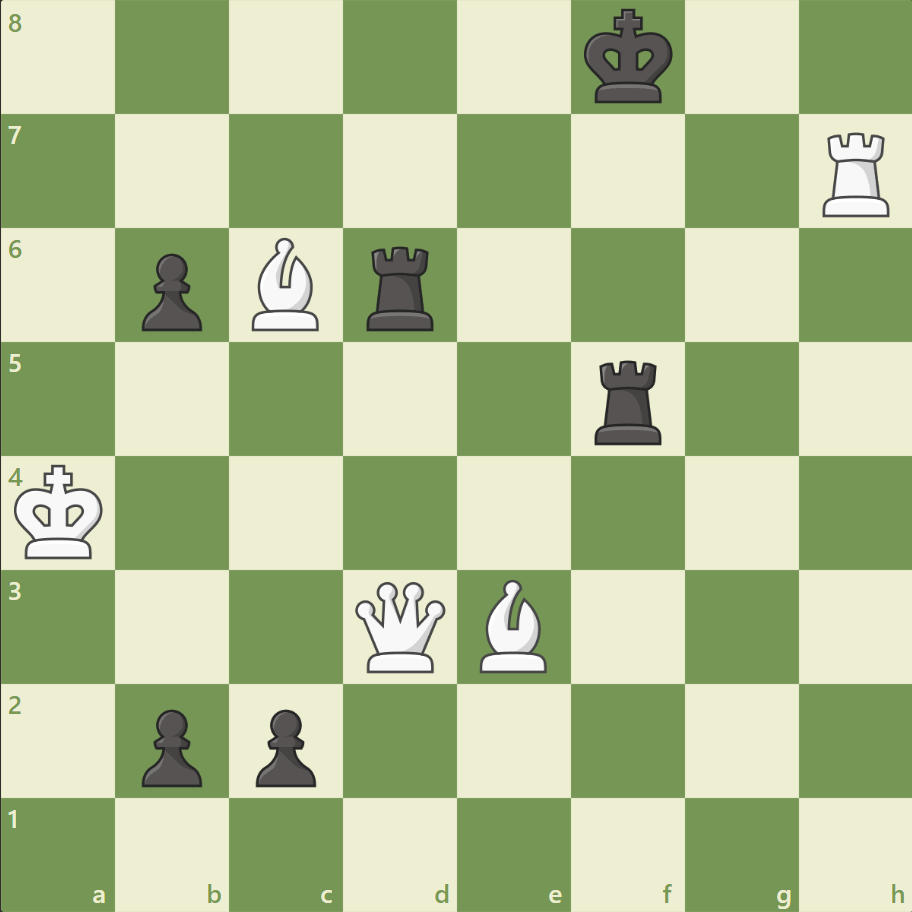B: (244, 233, 328, 336), (471, 574, 555, 676)
K: (11, 458, 111, 566)
Q: (351, 576, 450, 676)
R: (814, 125, 897, 222)
k: (579, 4, 679, 112)
p: (133, 246, 208, 337), (133, 700, 208, 791), (247, 700, 322, 791)
r: (587, 352, 670, 449), (360, 239, 442, 336)
